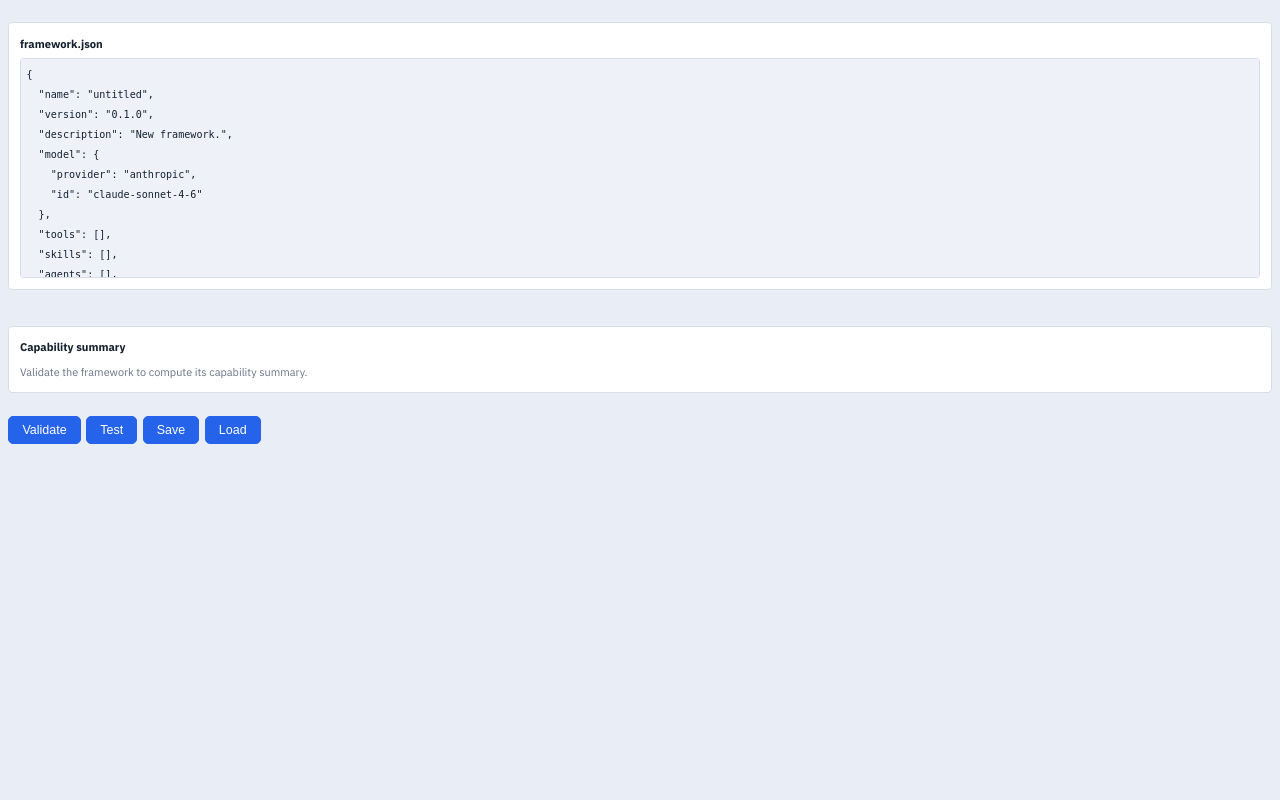
it: Inspector › the_validate_button_uses_the_same_validate_framework_the_continuous_pass_uses
The image size is (1280, 800).
Click the button "Validate" at (45, 430), box x1=8 y1=416 x2=81 y2=444
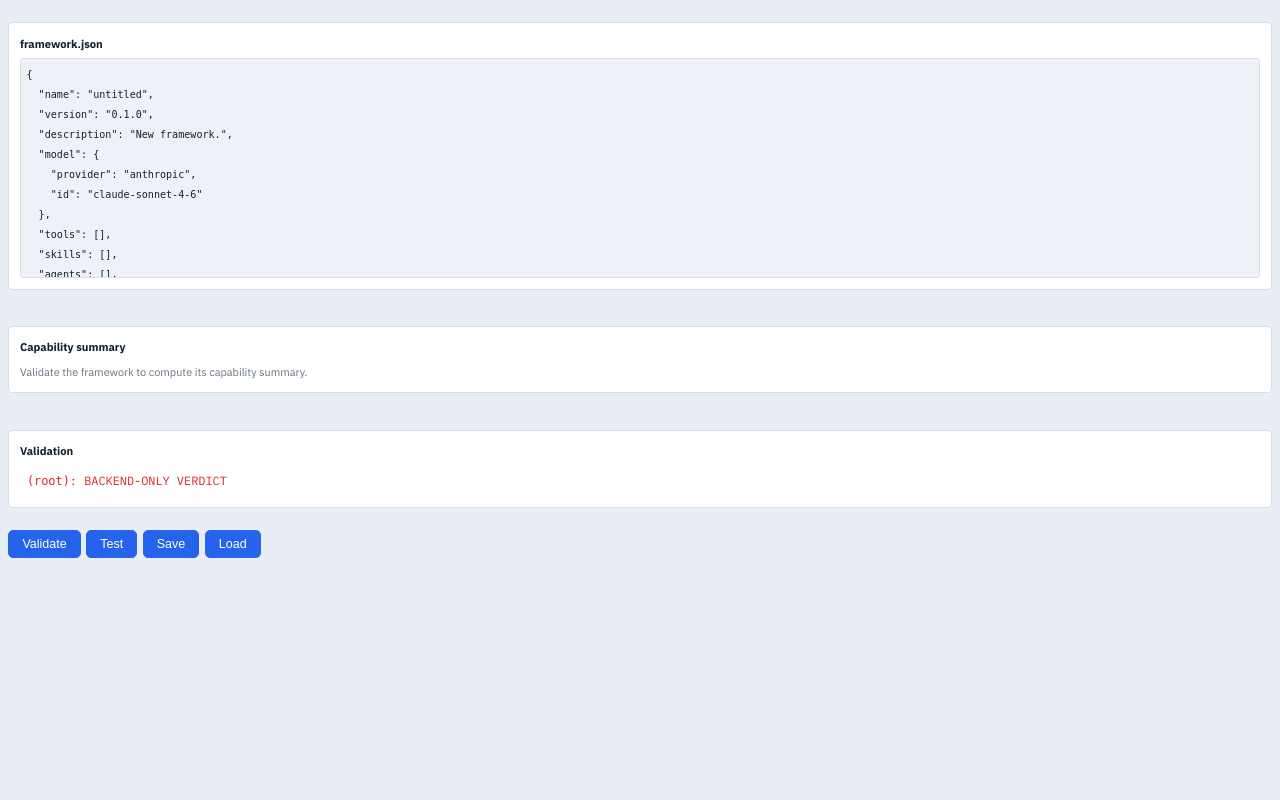
Now the list item "(root): BACKEND-ONLY VERDICT" is shown, box x1=27 y1=473 x2=227 y2=488
